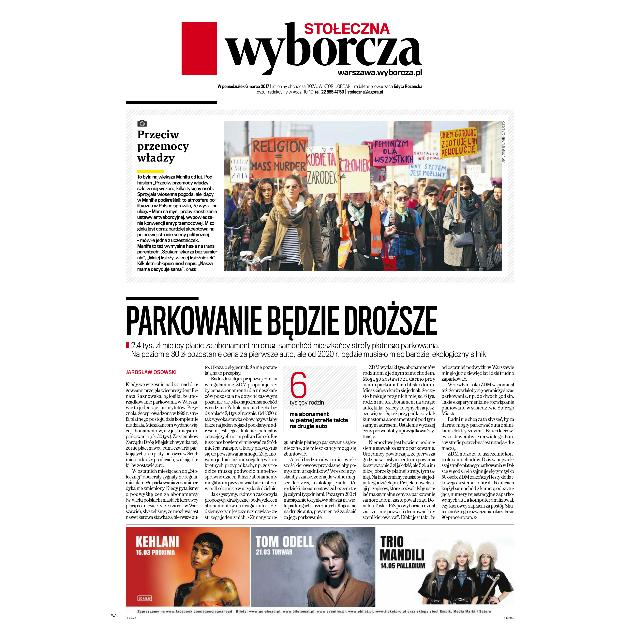article: (121, 296, 518, 522), (123, 98, 517, 290)
